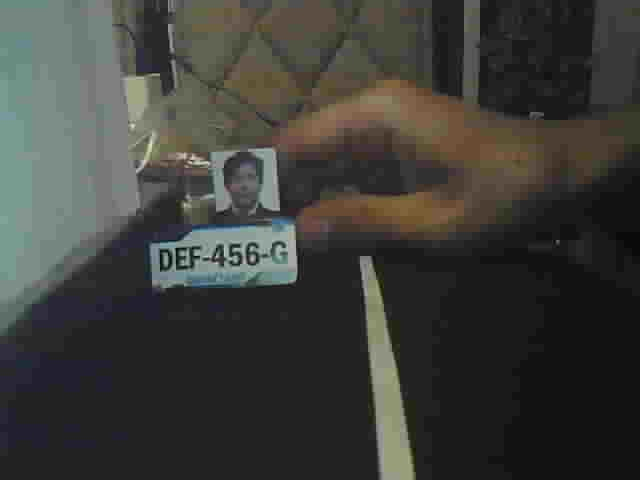PLACA: (144, 215, 300, 294)
ROSTRO: (215, 147, 280, 212)
